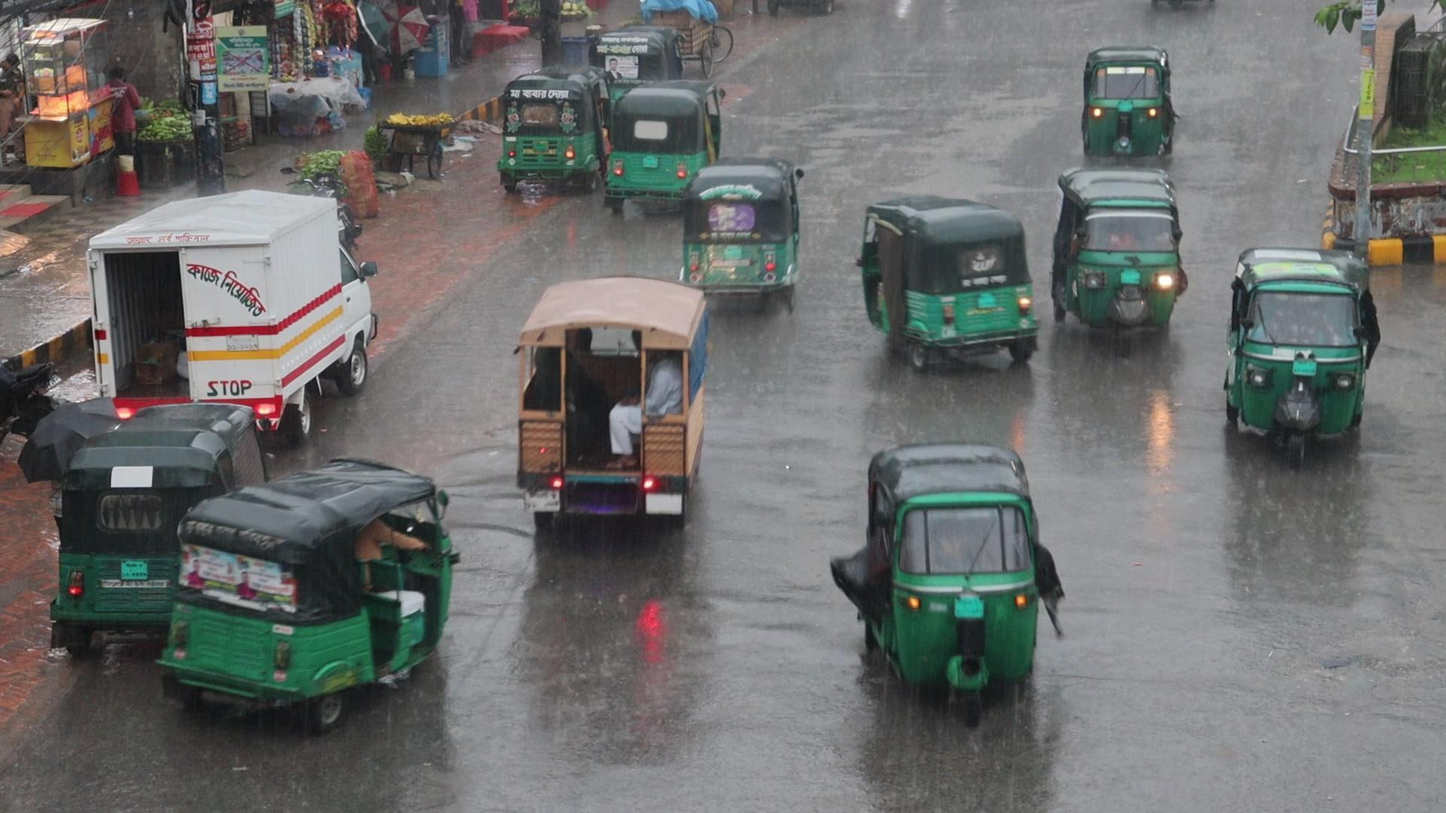Truck: (514, 276, 707, 526)
